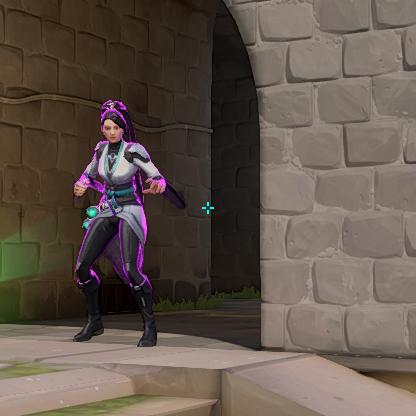enemyBody: (104, 144, 131, 190)
enemyHead: (105, 115, 122, 139)
